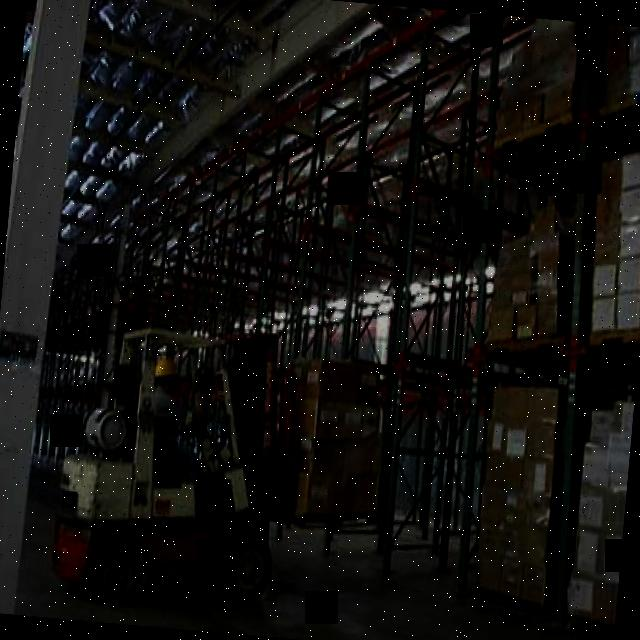box: (298, 387, 382, 450), (296, 469, 381, 521), (303, 439, 383, 483), (306, 358, 380, 403), (490, 383, 559, 425), (595, 148, 640, 200), (493, 89, 542, 135), (534, 274, 560, 336), (482, 485, 521, 525), (532, 235, 566, 277), (573, 530, 603, 575), (530, 202, 561, 243), (484, 457, 523, 488), (519, 461, 553, 494), (486, 303, 515, 340), (577, 489, 606, 526), (581, 443, 607, 484), (517, 498, 550, 530), (523, 425, 554, 459), (515, 530, 548, 561), (588, 408, 615, 445), (502, 419, 528, 457), (480, 528, 514, 556), (475, 554, 502, 589), (518, 568, 544, 603), (514, 300, 537, 339), (485, 418, 505, 455), (499, 564, 521, 594)
